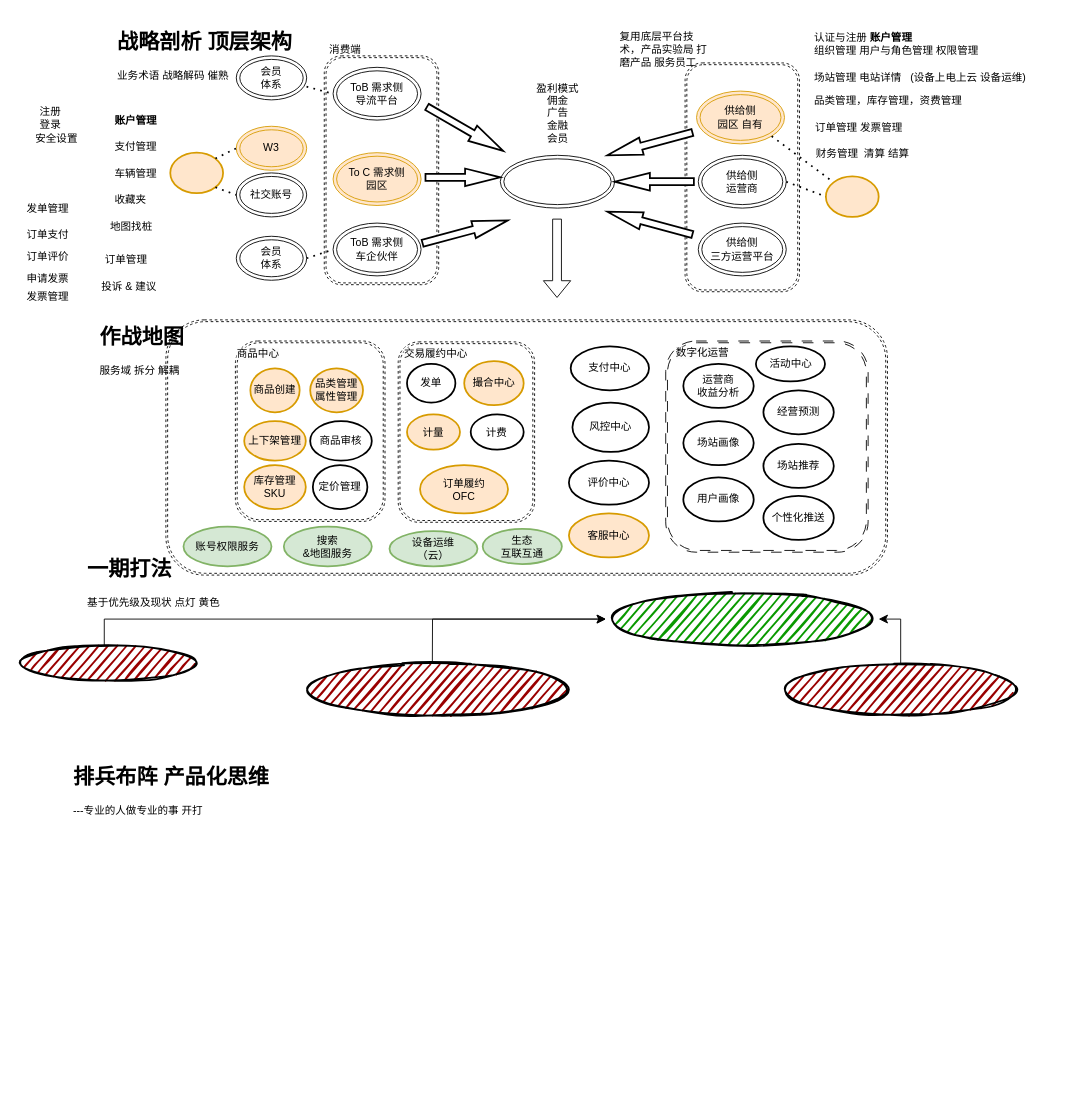
Image size: 1065x1110. Some labels were removed from this diagram. The shapes that lost their labels are listed below. From the top down, each one's box as (x1, y1, x2, y2) in pixels, then its label:
(169, 151, 224, 194): 用户 中心
(499, 154, 615, 208): 充电运营平台 (信息流+资金流)
(825, 175, 879, 217): 商家 中心
